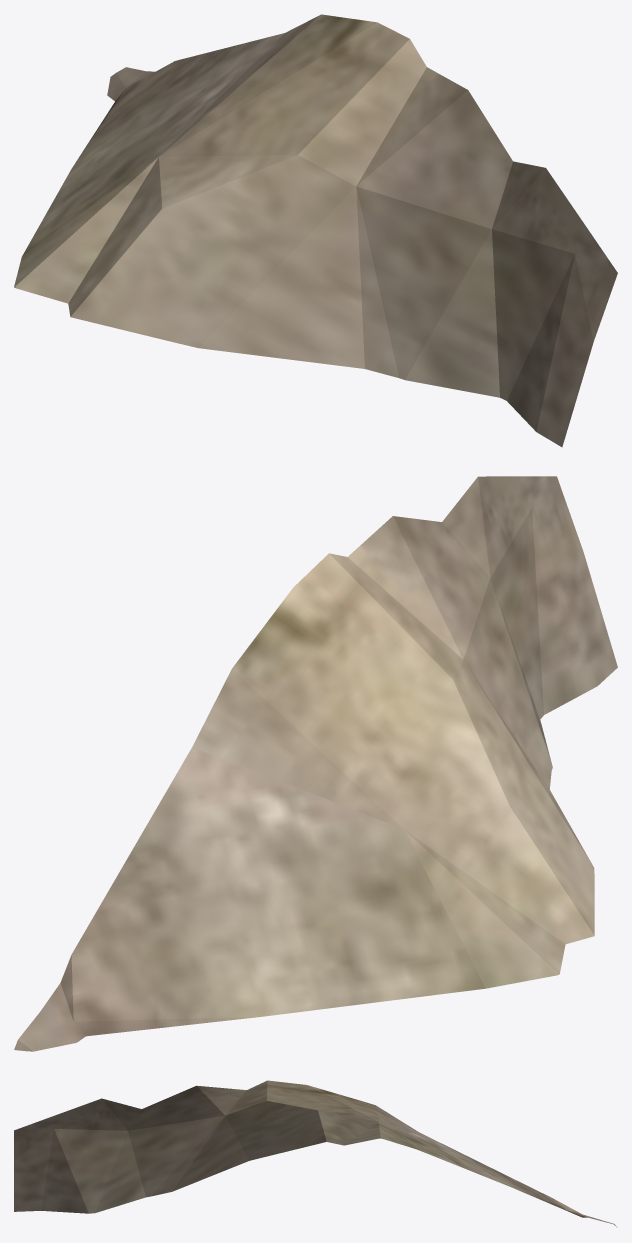
3 views of the same model, one above another, from view 1: azimuth 30°, elevation 25°; view 2: azimuth 150°, elevation 25°; view 3: azimuth 270°, elevation 25° (orthographic). The views are drawn at different scales.
Size of the model in its own units: 1.31 by 1 by 3.71.
1 material, 1 textured.
